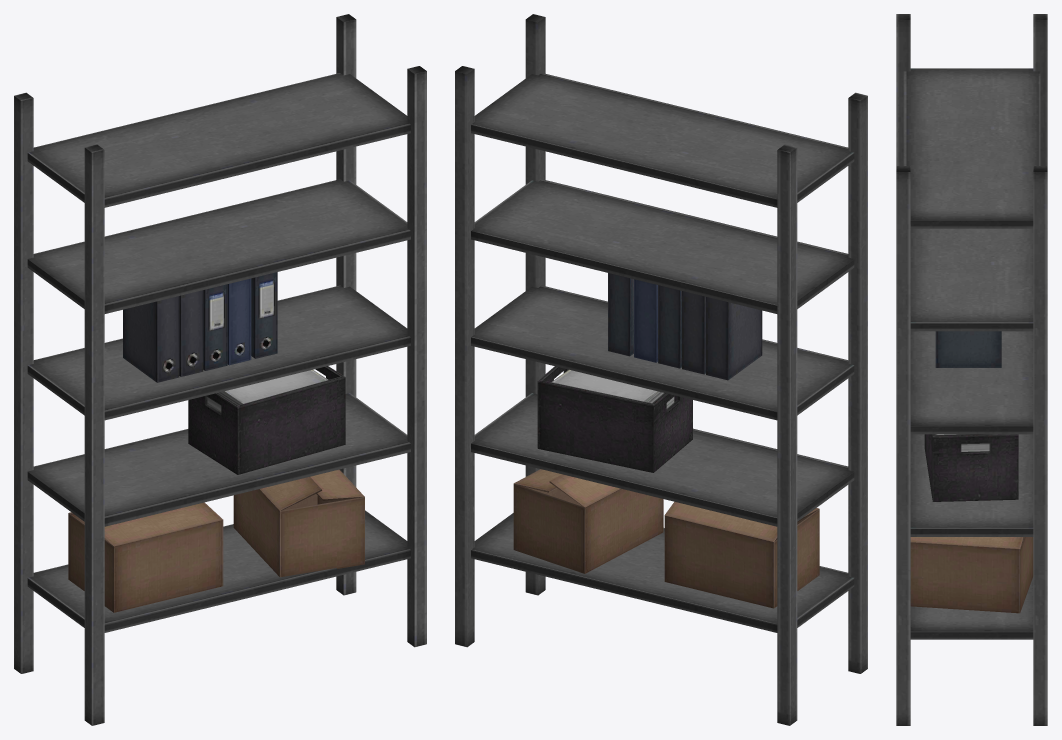
File: DocumentShelf.fbx
3 views of the same model, side by side, from view 1: azimuth 30°, elevation 25°; view 2: azimuth 150°, elevation 25°; view 3: azimuth 270°, elevation 25° (orthographic). The views are drawn at different scales.
Visible parts, largest first — view 1: DocumentShelf; view 2: DocumentShelf; view 3: DocumentShelf.
Boxes of the visible parts, <box> form: DocumentShelf: <box>14,14,426,725</box>; DocumentShelf: <box>455,14,867,725</box>; DocumentShelf: <box>896,14,1047,725</box>.
Size of the model in its own units: 2.19 by 3.59 by 0.8863.
